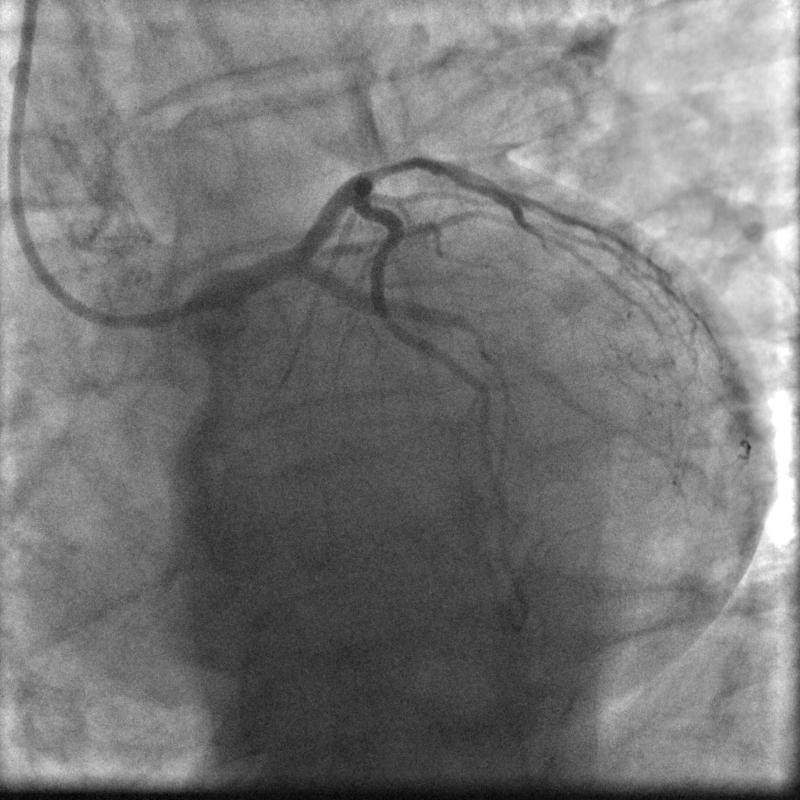Stenosis: (362, 143, 422, 179)
